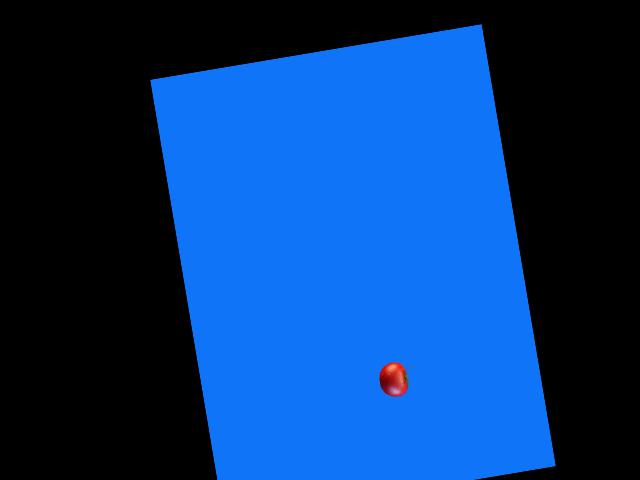tomato: (376, 360, 410, 399)
